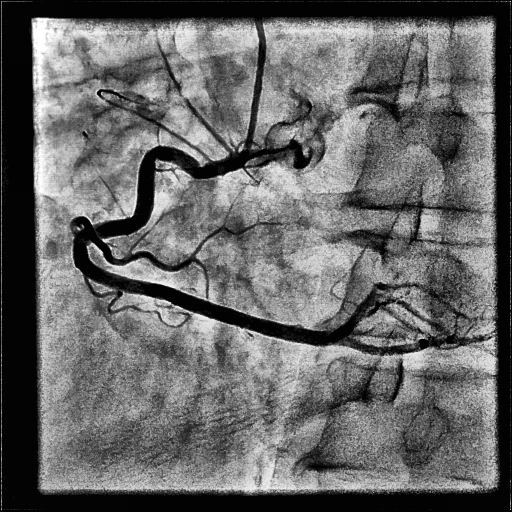pborca: (332, 281, 457, 337)
pda: (318, 334, 475, 356)
rca: (73, 147, 330, 346)
